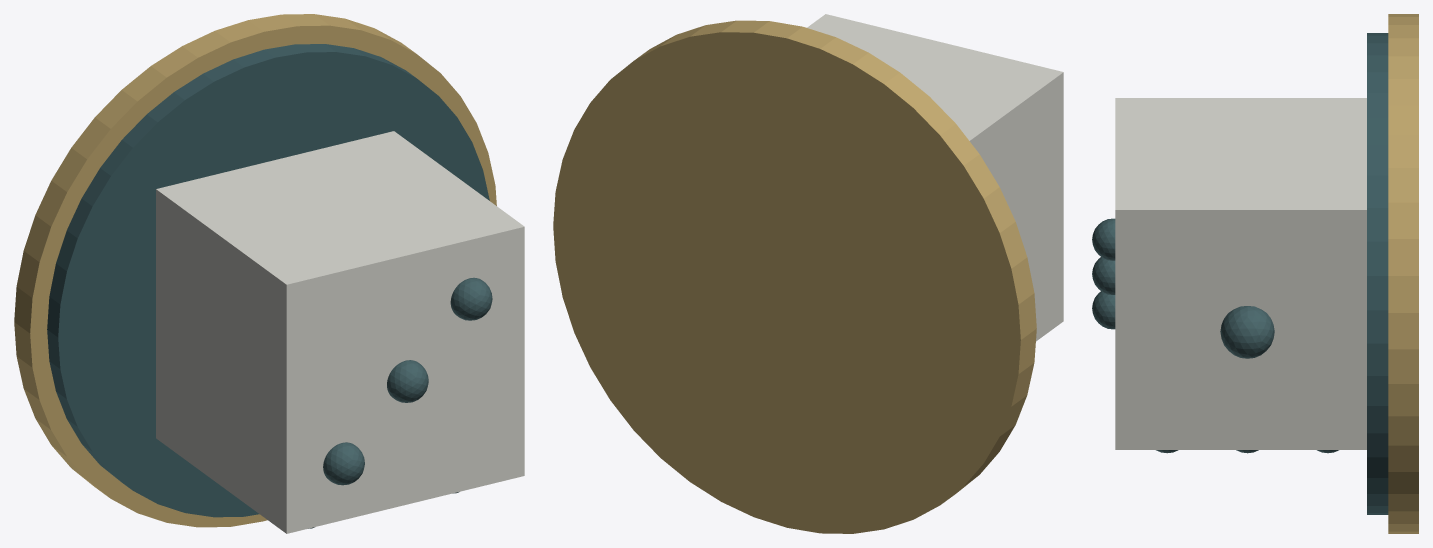
File: pearl_dice.glb
The picture shows the model from 3 angles, left to right: view 1: azimuth 30°, elevation 25°; view 2: azimuth 150°, elevation 25°; view 3: azimuth 270°, elevation 25°; orthographic projection. The views are drawn at different scales.
Visible parts, largest first — view 1: dice-body, obsidian-plinth, gold-plinth, top-pip-2, top-pip-1, top-pip-0; view 2: gold-plinth, dice-body; view 3: dice-body, gold-plinth, obsidian-plinth, right-pip, top-pip-2, top-pip-0, top-pip-1.
Boxes of the visible parts, box(x1,y1,x2,y2) form: dice-body: box(156, 131, 524, 533); obsidian-plinth: box(47, 44, 489, 517); gold-plinth: box(14, 14, 496, 527); top-pip-2: box(450, 277, 492, 320); top-pip-1: box(387, 360, 428, 402); top-pip-0: box(323, 442, 364, 485); gold-plinth: box(553, 20, 1036, 533); dice-body: box(807, 14, 1063, 341); dice-body: box(1115, 98, 1366, 449); gold-plinth: box(1388, 14, 1418, 533); obsidian-plinth: box(1367, 33, 1388, 514); right-pip: box(1220, 306, 1274, 358); top-pip-2: box(1092, 218, 1115, 260); top-pip-0: box(1092, 291, 1115, 329); top-pip-1: box(1092, 257, 1115, 294).
Size of the model in its own units: 2.2 by 2.2 by 1.38.
